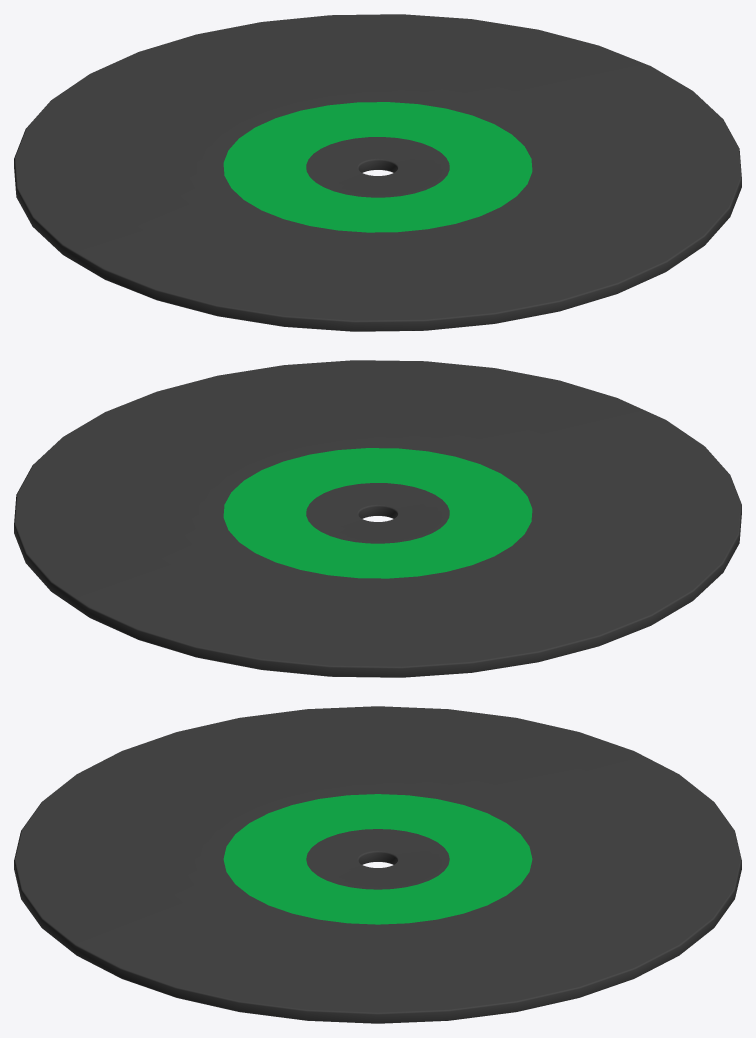
File: Store_13_Vinyl_3.glb
3 renders of one model, top to bottom at view 1: azimuth 30°, elevation 25°; view 2: azimuth 150°, elevation 25°; view 3: azimuth 270°, elevation 25°, orthographic.
Parts seen in each view (by area): view 1: Store_13_Vinyl_3; view 2: Store_13_Vinyl_3; view 3: Store_13_Vinyl_3.
Part boxes in pixels (<box>): Store_13_Vinyl_3: <box>14,14,741,331</box>; Store_13_Vinyl_3: <box>14,360,741,677</box>; Store_13_Vinyl_3: <box>14,706,741,1023</box>.
Size of the model in its own units: 0.413 by 0.00711 by 0.413.
Materials: 1 (1 with a texture image).
